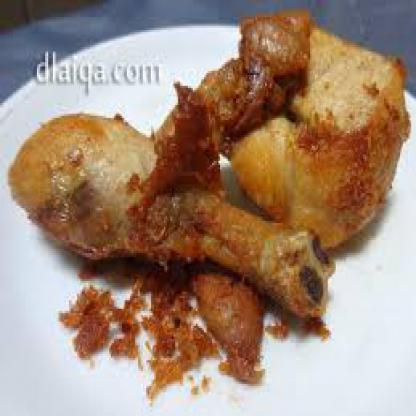ayam_goreng: (13, 111, 326, 324), (201, 22, 411, 286)
